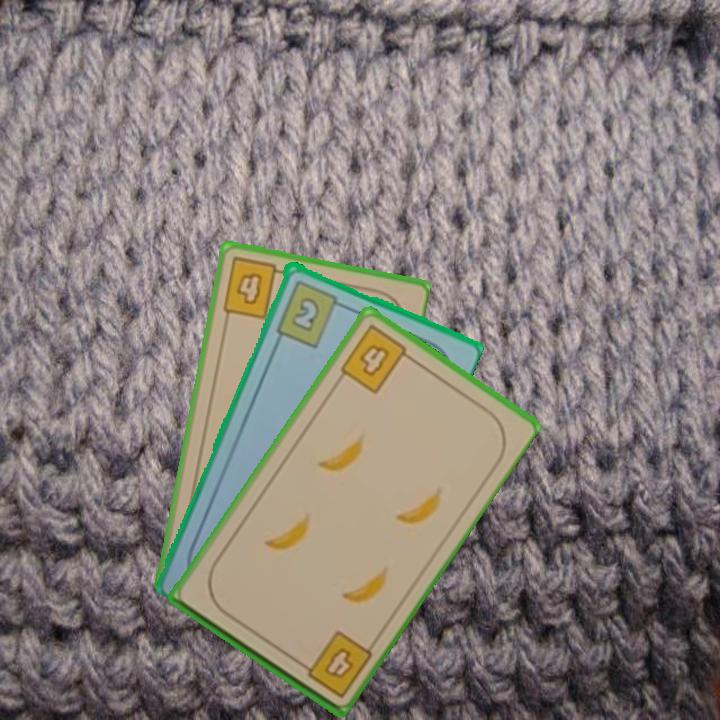2b: (272, 276, 348, 350)
4b: (336, 320, 417, 397), (293, 626, 375, 701), (218, 253, 289, 322)
